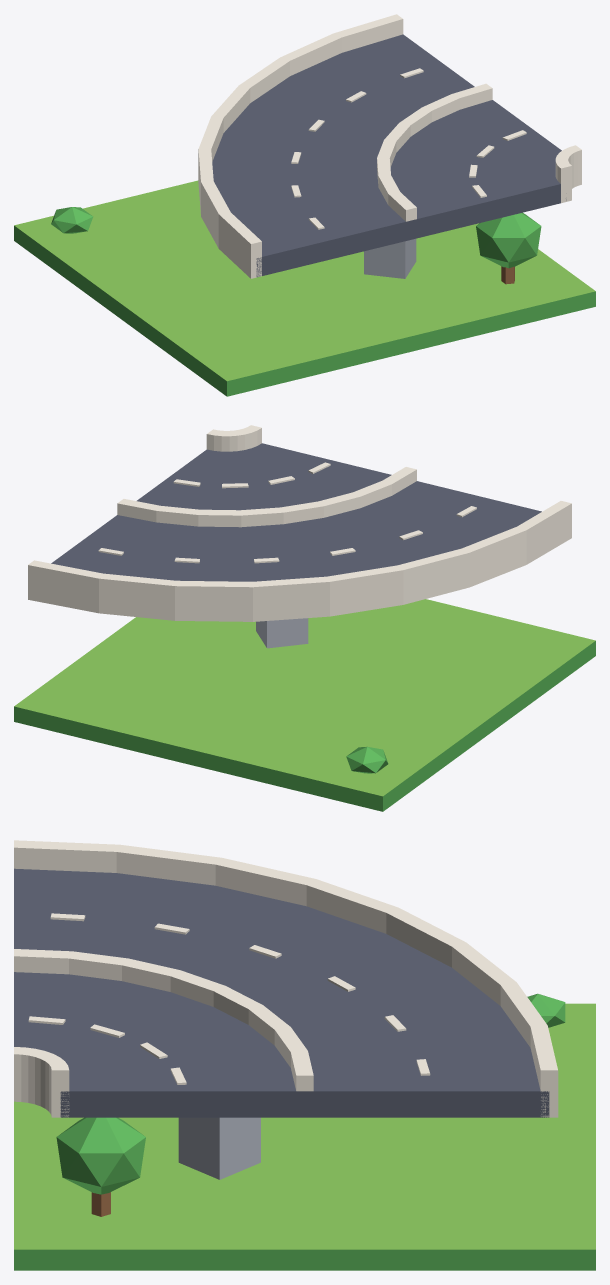
File: highway_corner.glb
3 views of the same model, one above another, from view 1: azimuth 30°, elevation 25°; view 2: azimuth 150°, elevation 25°; view 3: azimuth 270°, elevation 25° (orthographic). The views are drawn at different scales.
Parts seen in each view (by area): view 1: highway_corner; view 2: highway_corner; view 3: highway_corner.
Boxes of the visible parts, x1,y1,x2,y2 form: highway_corner: (14, 14, 595, 396); highway_corner: (14, 425, 595, 811); highway_corner: (14, 840, 595, 1270).
Bounding box in the file's own units: 1 × 0.38 × 1.
